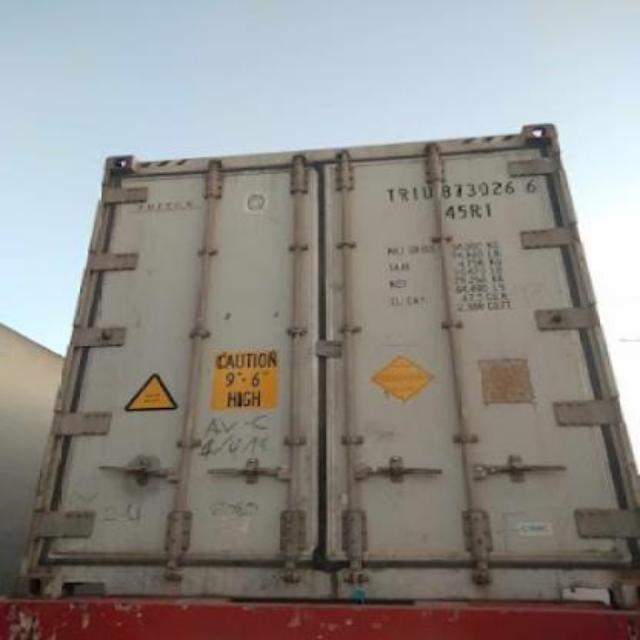0: (478, 180, 492, 196)
2: (490, 181, 502, 197)
3: (466, 182, 478, 196)
6: (524, 180, 538, 194), (506, 180, 518, 196)
7: (452, 182, 466, 196)
8: (440, 184, 452, 200)
I: (410, 184, 422, 200)
R: (398, 188, 412, 200)
T: (386, 188, 396, 200)
U: (422, 184, 434, 200)
